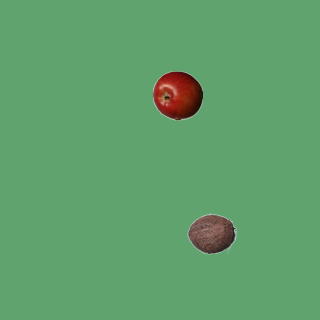Apple Braeburn: (152, 70, 202, 120)
Cocos: (186, 208, 236, 258)
